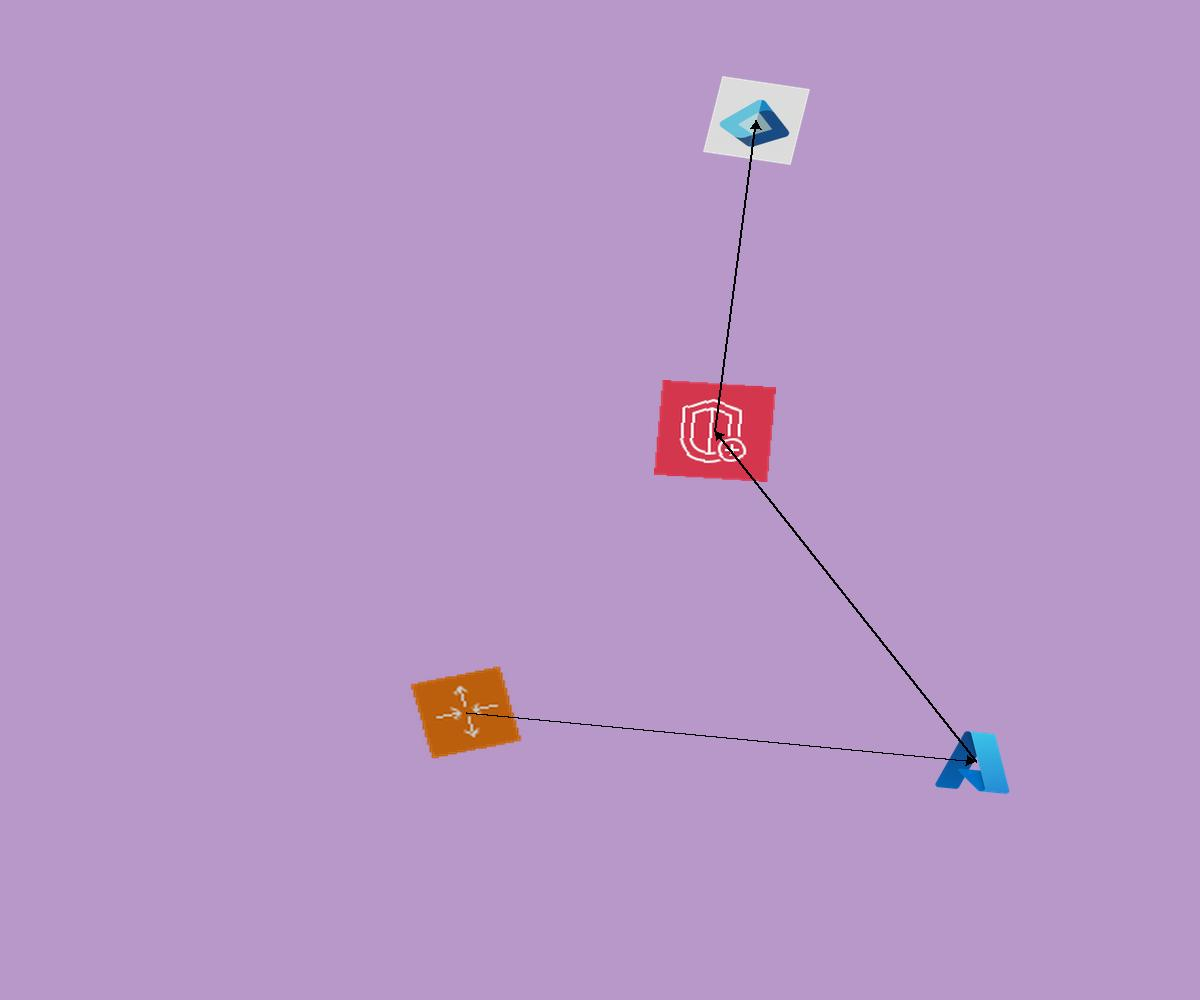AWS-Scaling-group: (409, 665, 523, 760)
AWS-Shield: (654, 380, 776, 482)
Azure_microsoft_entra: (703, 76, 810, 165)
Azure_services: (931, 724, 1021, 799)
